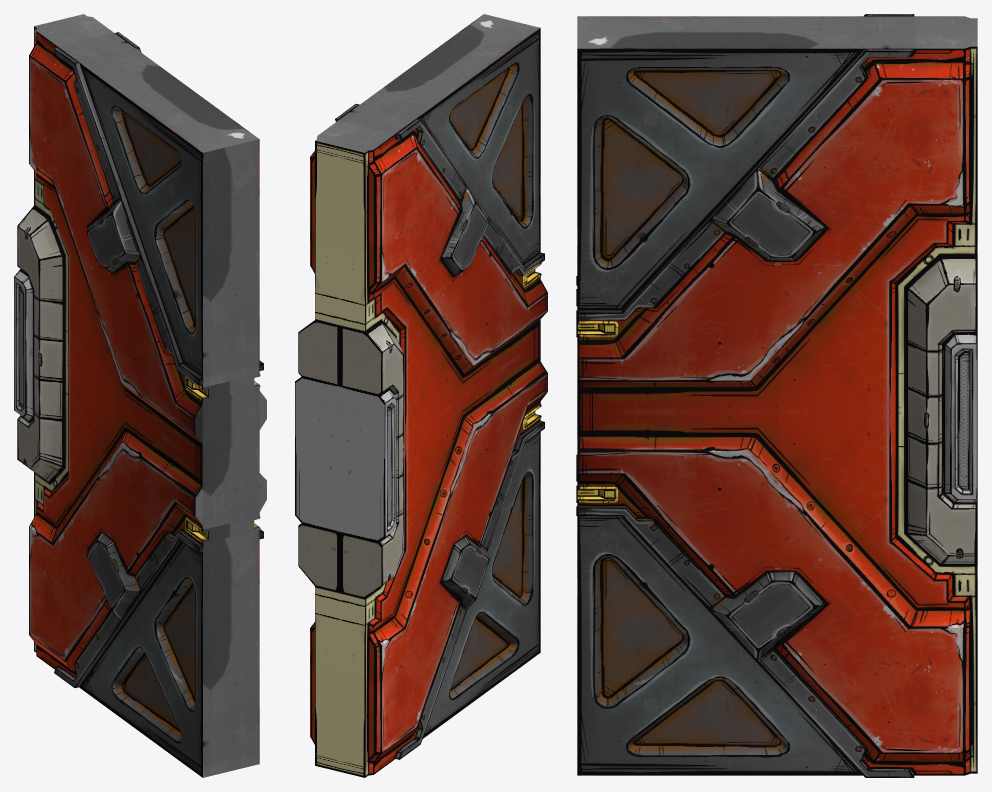
The model's file is SM_Atlas_IronBear_Door2_Left.obj.
3 views of the same model, side by side, from view 1: azimuth 30°, elevation 25°; view 2: azimuth 150°, elevation 25°; view 3: azimuth 270°, elevation 25° (orthographic). The views are drawn at different scales.
Parts seen in each view (by area): view 1: SM_Atlas_IronBear_Door2_Left; view 2: SM_Atlas_IronBear_Door2_Left; view 3: SM_Atlas_IronBear_Door2_Left.
Boxes of the visible parts, <box> form: SM_Atlas_IronBear_Door2_Left: <box>14,14,266,777</box>; SM_Atlas_IronBear_Door2_Left: <box>295,14,547,777</box>; SM_Atlas_IronBear_Door2_Left: <box>576,14,977,777</box>.
Bounding box in the file's own units: 60.32 × 400 × 200.
Materials: 1 (1 with a texture image).
